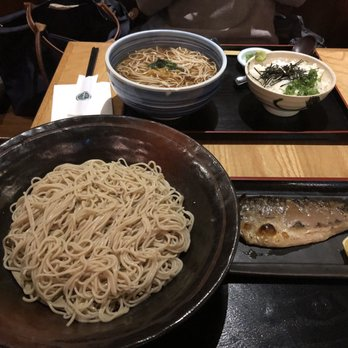Soba: (8, 151, 191, 331), (116, 45, 217, 90)
